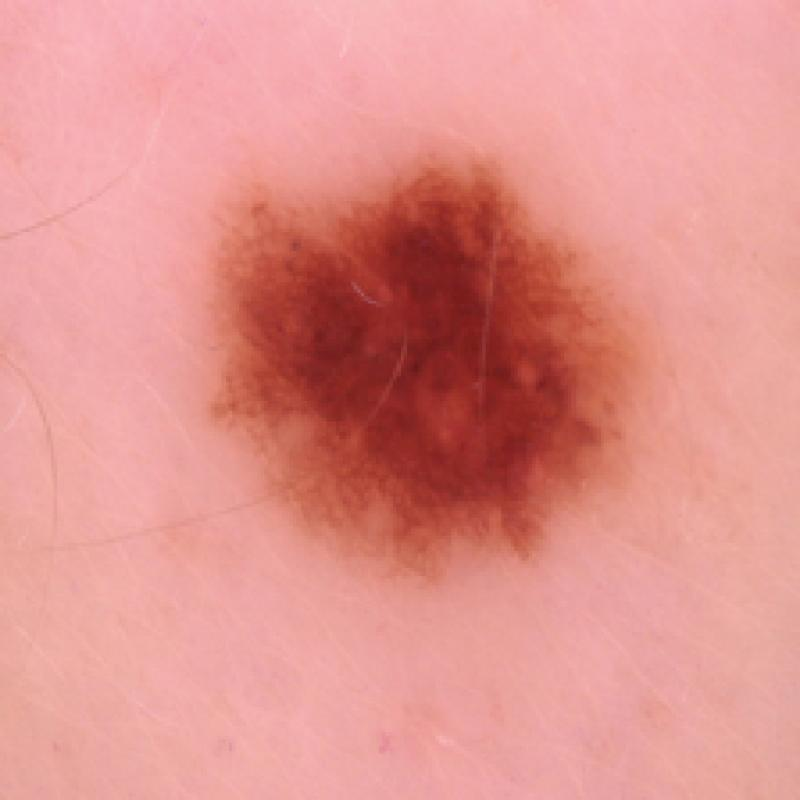benign: (187, 147, 672, 594)
